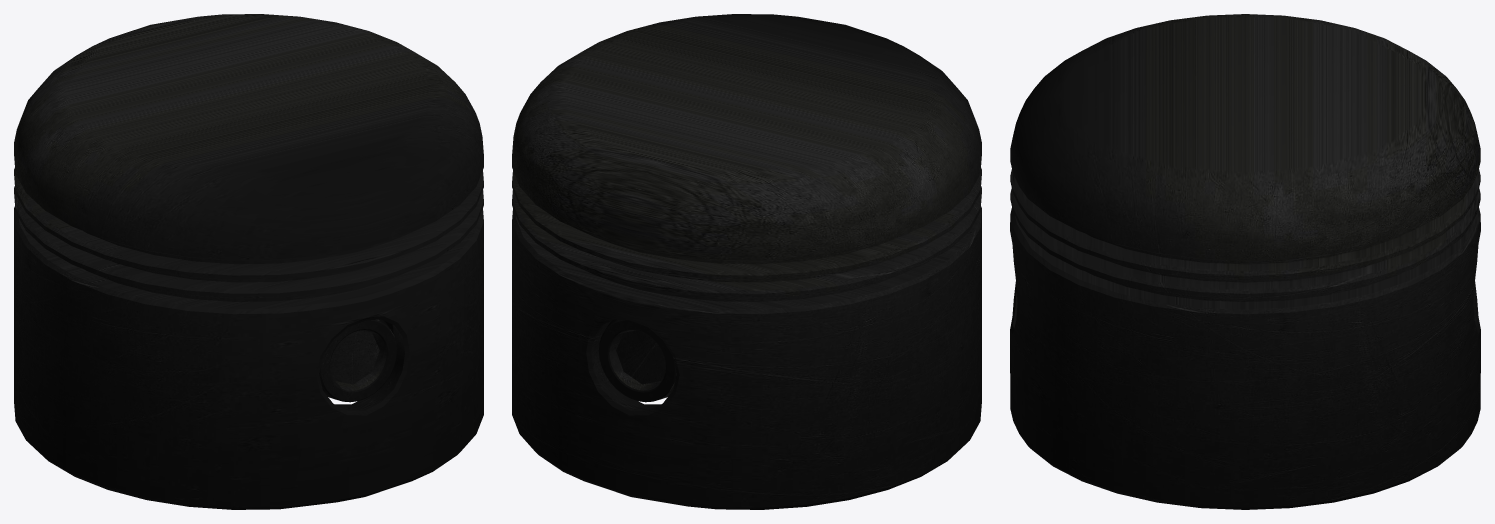
The model's file is piston2.obj.
3 renders of one model, left to right at view 1: azimuth 30°, elevation 25°; view 2: azimuth 150°, elevation 25°; view 3: azimuth 270°, elevation 25°, orthographic.
Parts seen in each view (by area): view 1: Piston2_Circle.001; view 2: Piston2_Circle.001; view 3: Piston2_Circle.001.
Part boxes in pixels (x1,y1,x2,y2): Piston2_Circle.001: (14,14,483,509); Piston2_Circle.001: (512,14,981,509); Piston2_Circle.001: (1010,14,1480,509).
Bounding box in the file's own units: 2.88 × 2.15 × 2.88.
2 materials, 2 textured.
